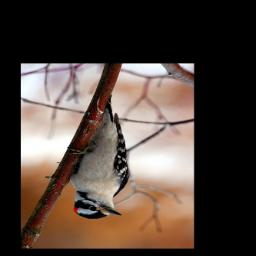Woodpecker: (66, 94, 129, 219)
